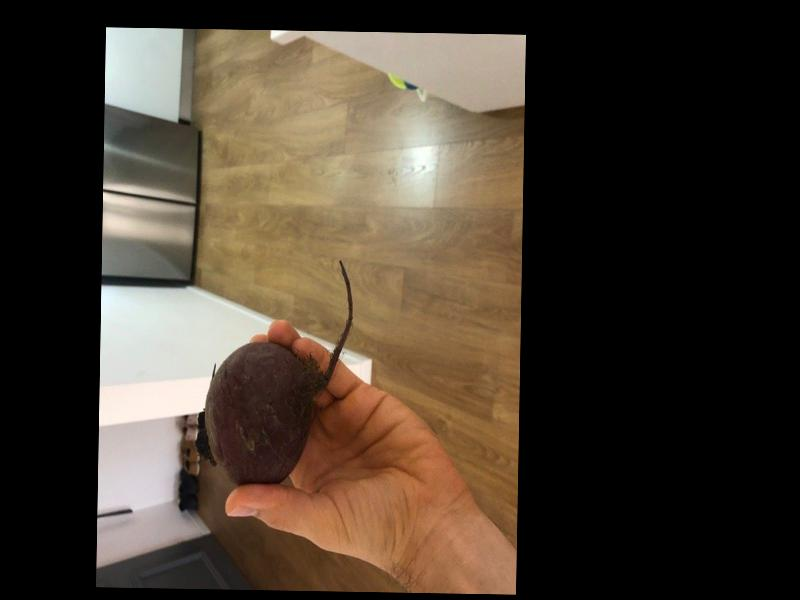Beet: (196, 257, 353, 487)
